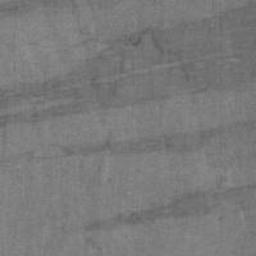Water spot: (0, 1, 255, 127), (0, 119, 256, 175), (79, 183, 256, 234), (0, 0, 118, 17)
